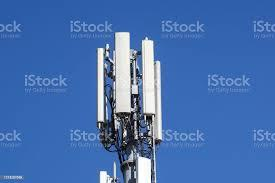antenna: (111, 29, 131, 114), (141, 35, 157, 116), (149, 56, 162, 149), (93, 46, 107, 125), (136, 154, 154, 183)
